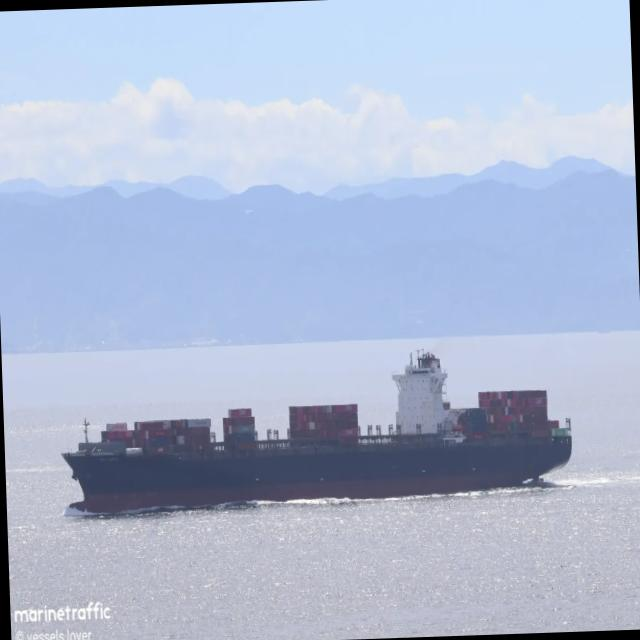Cargo: (62, 350, 571, 513)
